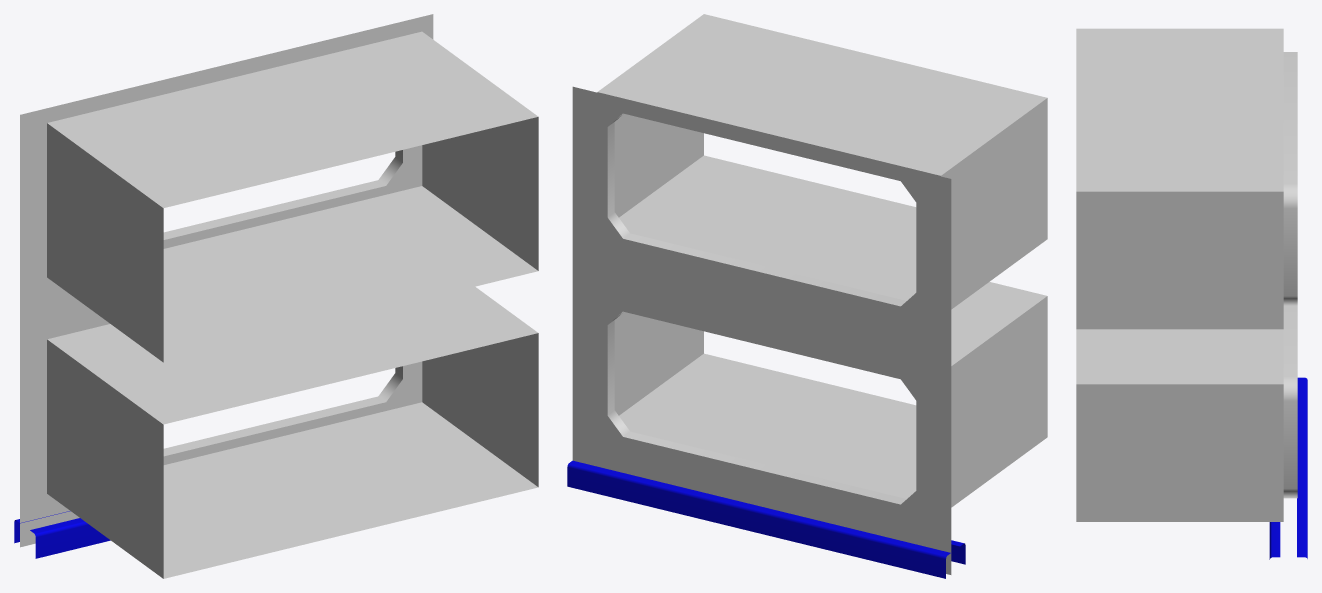
Rendered from BedDoubleWall.fbx.
The picture shows the model from 3 angles, left to right: view 1: azimuth 30°, elevation 25°; view 2: azimuth 150°, elevation 25°; view 3: azimuth 270°, elevation 25°; orthographic projection. The views are drawn at different scales.
Parts seen in each view (by area): view 1: Wall, Trim; view 2: Wall, Trim; view 3: Wall, Trim.
Part boxes in pixels (x1,y1,x2,y2): Wall: (20, 14, 538, 578); Trim: (14, 511, 110, 558); Wall: (572, 14, 1047, 574); Trim: (567, 460, 965, 578); Wall: (1076, 28, 1297, 521); Trim: (1269, 377, 1307, 559).
Bounding box in the file's own units: 12 × 12 × 6.54.
